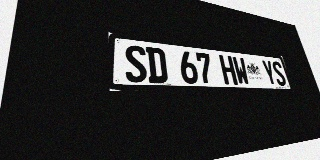6: (178, 50, 199, 84)
7: (194, 52, 215, 84)
D: (146, 47, 168, 83)
H: (219, 55, 238, 85)
S: (124, 44, 148, 83), (271, 61, 287, 86)
W: (232, 56, 250, 85)
Y: (261, 60, 278, 86)
